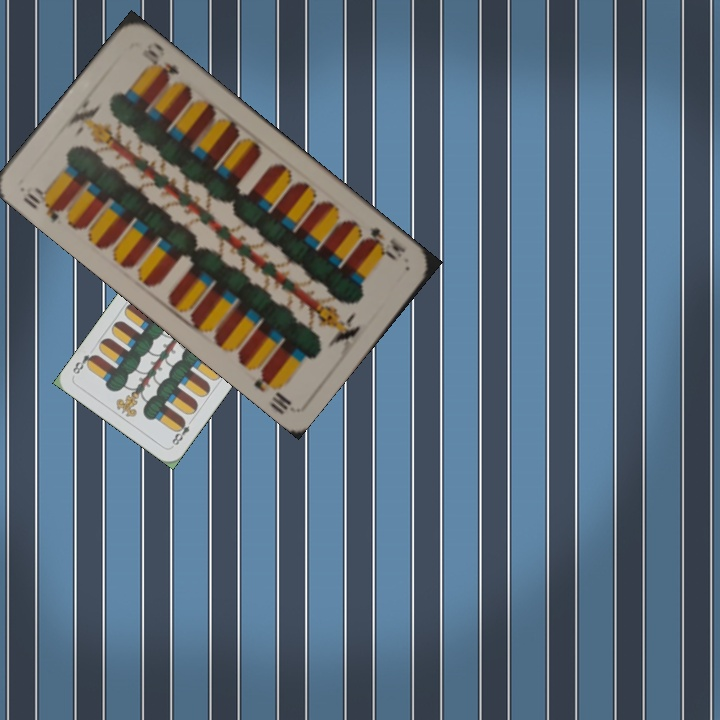E10: (356, 222, 409, 263), (19, 183, 67, 226)
E8: (168, 415, 192, 449)
